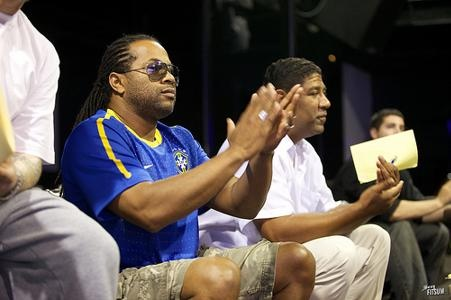person without safety: (60, 31, 215, 300)
